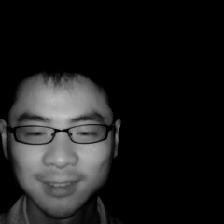happy: (1, 56, 133, 223)
